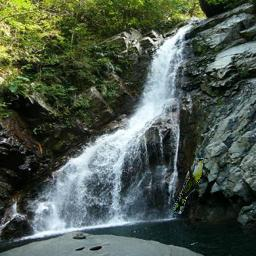Cuckoo: (173, 158, 207, 214)
